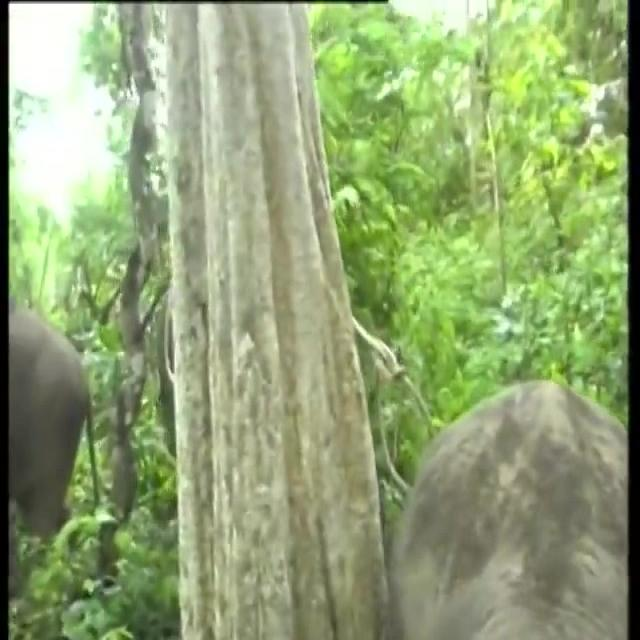Elephant: (420, 382, 626, 640), (8, 319, 90, 529)
